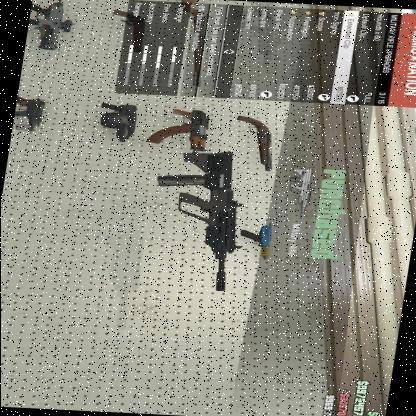rifle: (136, 145, 252, 291)
